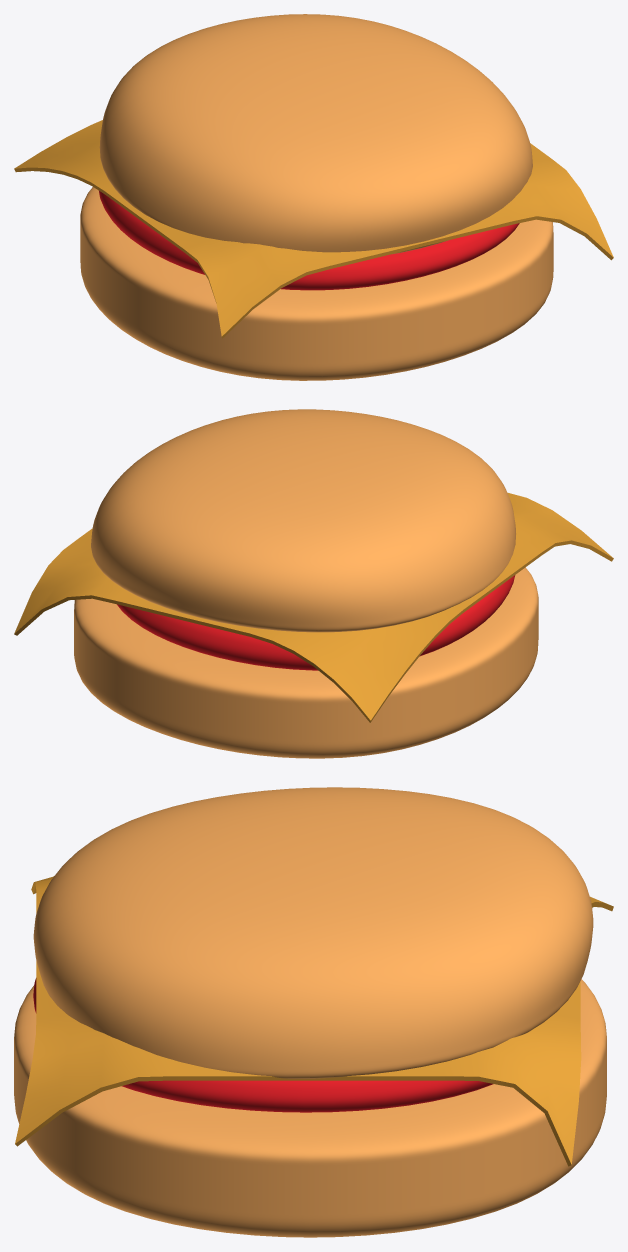
Rendered from hamburger.glb.
3 views of the same model, one above another, from view 1: azimuth 30°, elevation 25°; view 2: azimuth 150°, elevation 25°; view 3: azimuth 270°, elevation 25° (orthographic). The views are drawn at different scales.
Parts seen in each view (by area): view 1: Cube.002, Cube, Plane, Cube.001; view 2: Cube.002, Cube, Plane, Cube.001; view 3: Cube.002, Cube, Plane, Cube.001.
Part boxes in pixels (<box>): Cube.002: <box>99,14,532,254</box>; Cube: <box>80,187,553,380</box>; Plane: <box>14,120,613,338</box>; Cube.001: <box>99,191,519,290</box>; Cube.002: <box>91,409,515,632</box>; Cube: <box>74,567,538,758</box>; Plane: <box>14,492,613,722</box>; Cube.001: <box>117,575,515,670</box>; Cube.002: <box>33,787,593,1078</box>; Cube: <box>14,979,606,1237</box>; Plane: <box>15,876,613,1166</box>; Cube.001: <box>33,978,493,1112</box>.
Bounding box in the file's own units: 9.19 × 4.95 × 9.21.
